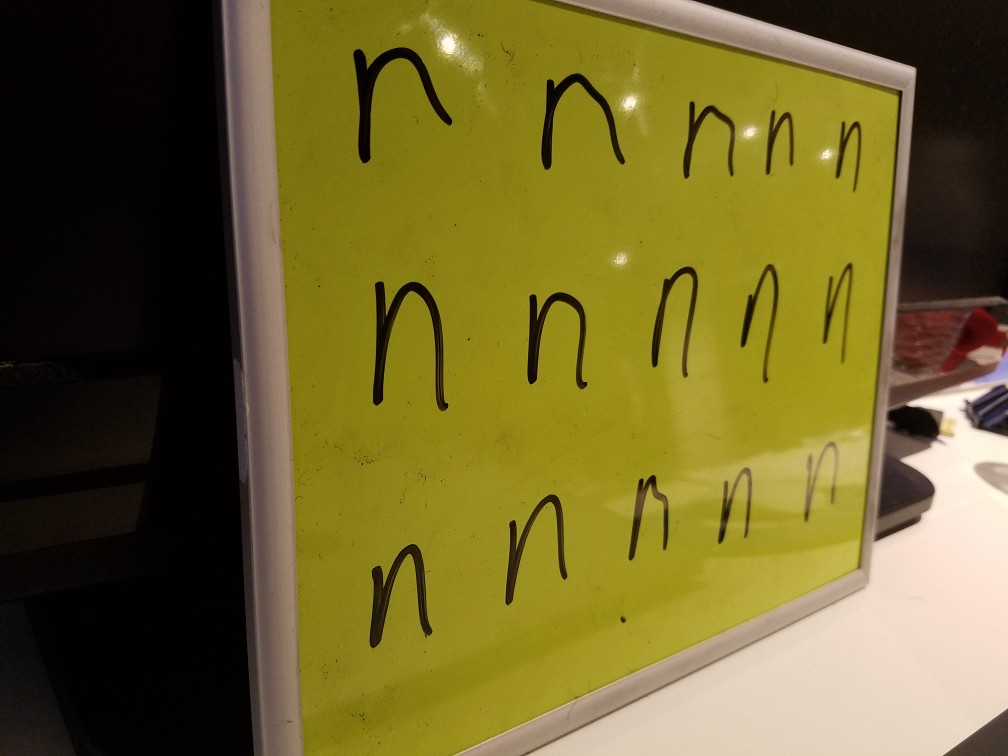n: (347, 17, 464, 186), (518, 47, 645, 191), (353, 262, 462, 421), (354, 510, 456, 673), (483, 477, 582, 626), (626, 252, 712, 388), (511, 274, 599, 405), (666, 87, 751, 193), (735, 256, 791, 386), (623, 456, 682, 576), (706, 444, 758, 573), (798, 428, 853, 540), (811, 257, 862, 375), (756, 97, 805, 183), (824, 112, 875, 194)
